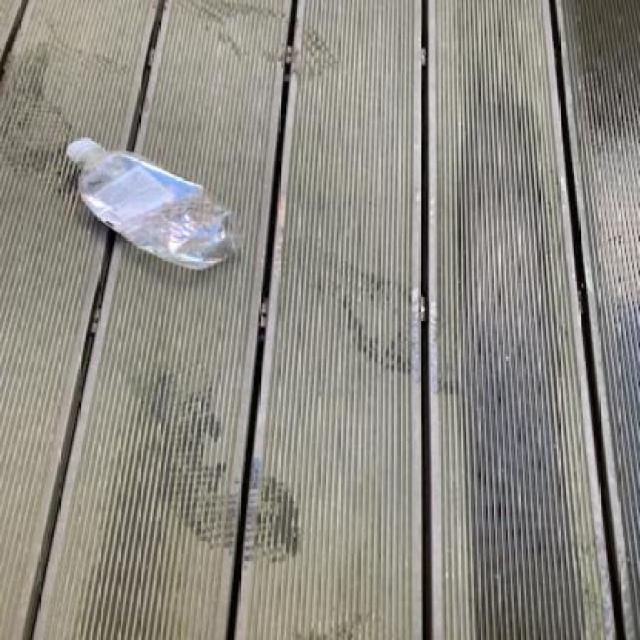trash: (66, 138, 243, 276)
